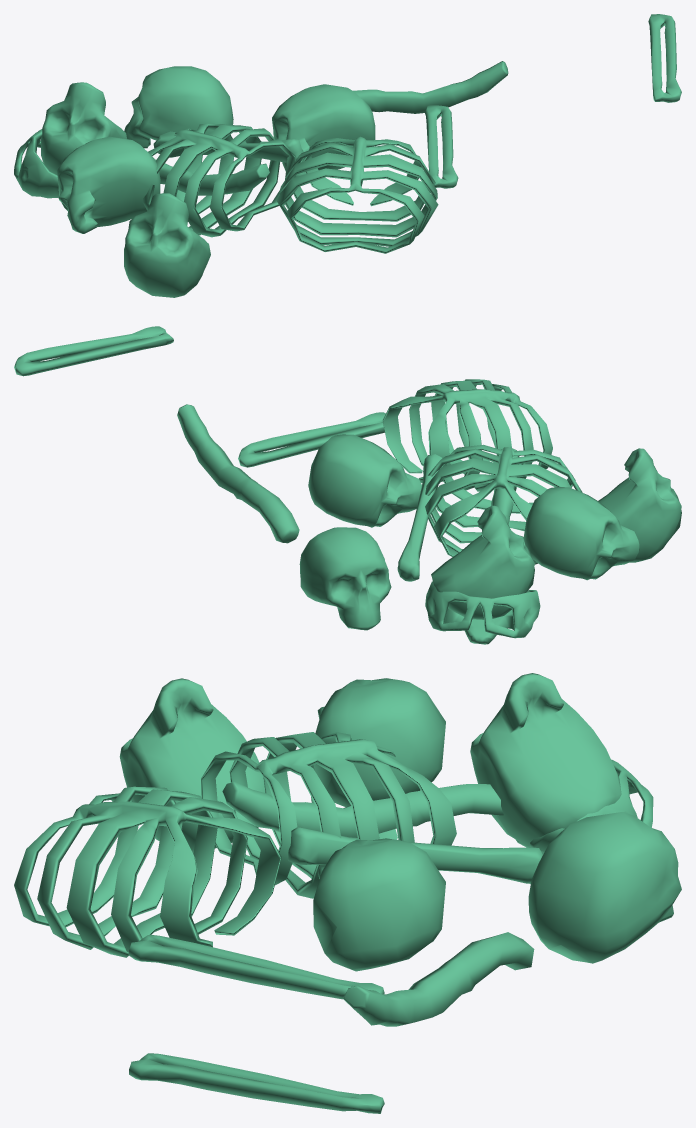
Rendered from Bones_Basket_01A_Lod0.fbx.
3 renders of one model, top to bottom at view 1: azimuth 30°, elevation 25°; view 2: azimuth 150°, elevation 25°; view 3: azimuth 270°, elevation 25°, orthographic. The views are drawn at different scales.
Parts seen in each view (by area): view 1: Bones_Basket_01A_Lod0; view 2: Bones_Basket_01A_Lod0; view 3: Bones_Basket_01A_Lod0.
Part boxes in pixels (<box>): Bones_Basket_01A_Lod0: <box>14,14,681,297</box>; Bones_Basket_01A_Lod0: <box>14,326,681,644</box>; Bones_Basket_01A_Lod0: <box>14,673,681,1113</box>.
Size of the model in its own units: 121 by 23.43 by 74.89.
